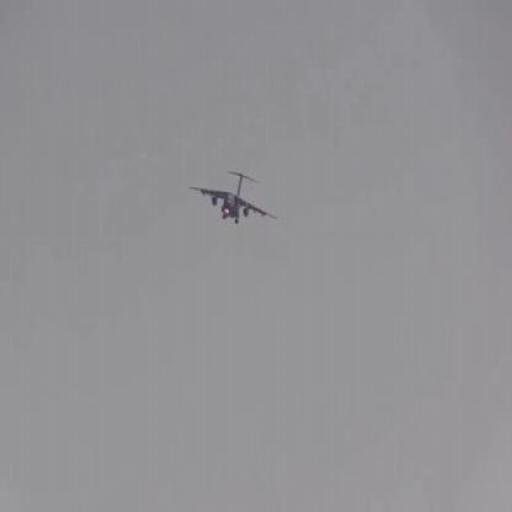aircraft: (188, 170, 275, 225)
